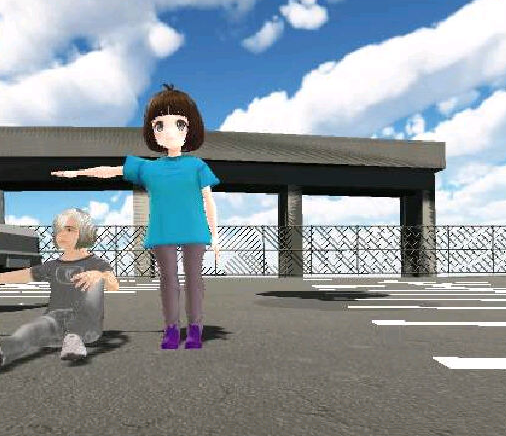doubleP_left: (1, 85, 222, 369)
